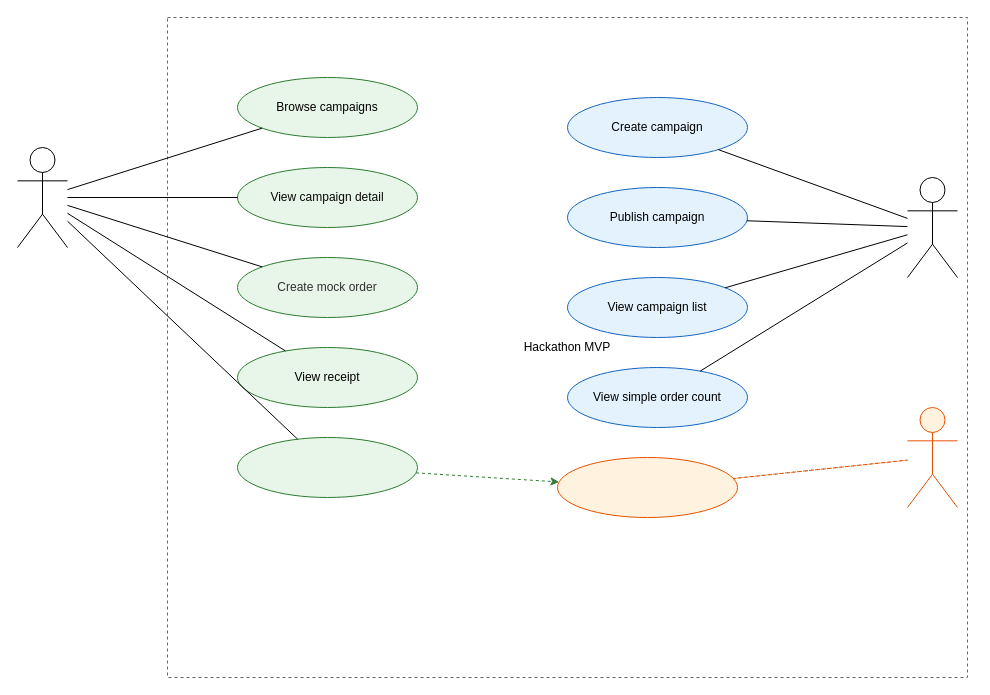
Some shapes in this 990 by 695 pixel diagram are drawn without their labels. The shapes that lost their labels are listed below. From the top down, each one's centre as x and y in pixels, then its label:
pixel 42 197: User
pixel 932 227: Merchant
pixel 327 467: Search with natural language
pixel 932 457: Google Gemini API
pixel 647 487: Convert speech to structured JSON
